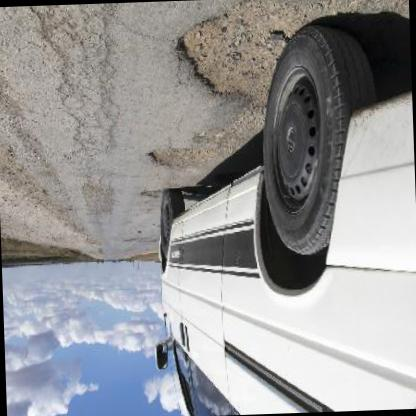pothole: (171, 1, 306, 115), (148, 144, 218, 174), (141, 189, 166, 202)
